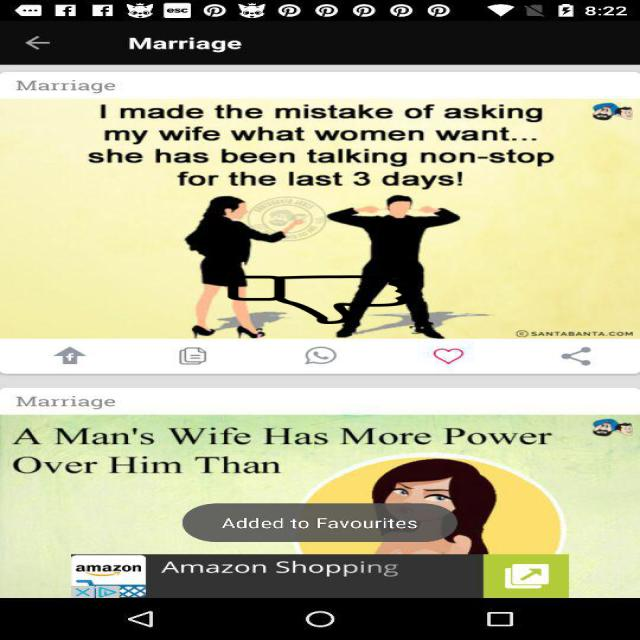obstruction: (225, 275, 415, 324)
